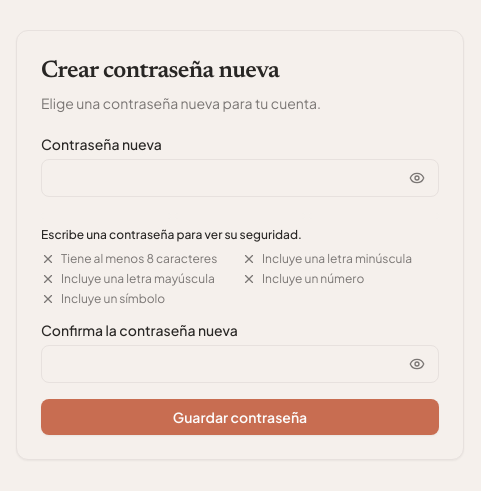
PasswordResetPage › KAN-37 / KAN-132: set a new password › AC-KAN-37-04: a different confirmation shows passwordMismatch on blur
In the password field labelled "Contraseña nueva": [240, 178] box [41,159,439,197], type "Emulator-Only-123!"
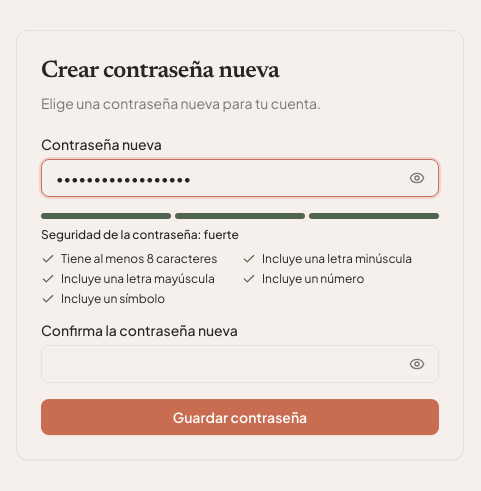
In the password field labelled "Confirma la contraseña nueva": [240, 364] box [41,345,439,383], type "Another-Pass-456?"
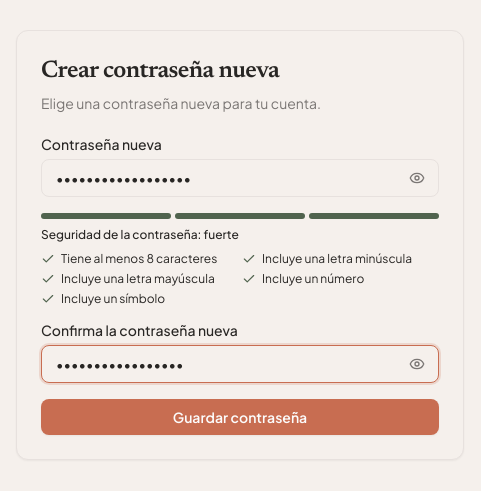
Press Tab
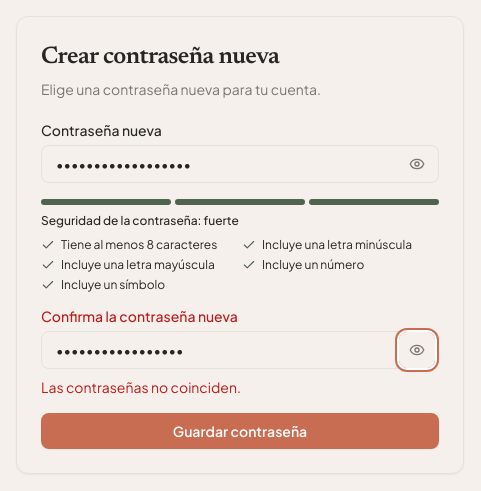
Now the text "Las contraseñas no coinciden." is shown once, box [41,378,241,396]
